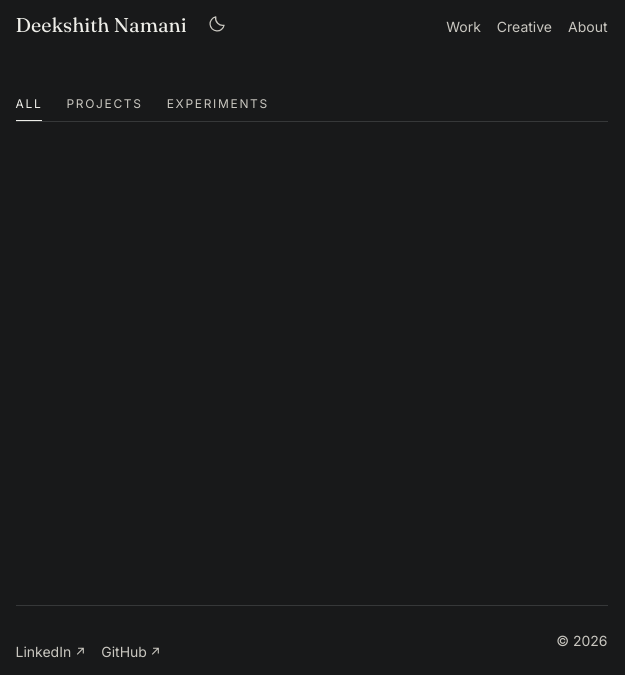
shared page primitives › presses the selected filter and notifies its parent
Click the button "Projects" at [105, 105], box [66,89,143,121]
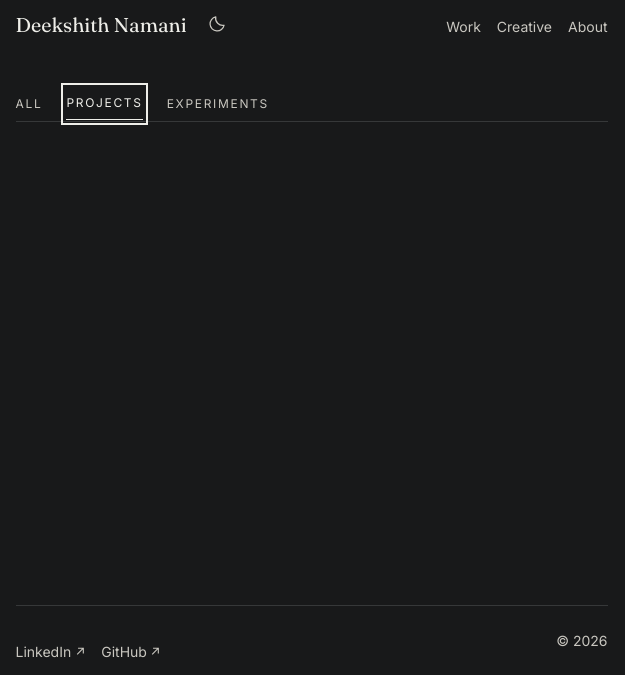
Now the button "Projects" is pressed, box [66,88,143,120]
